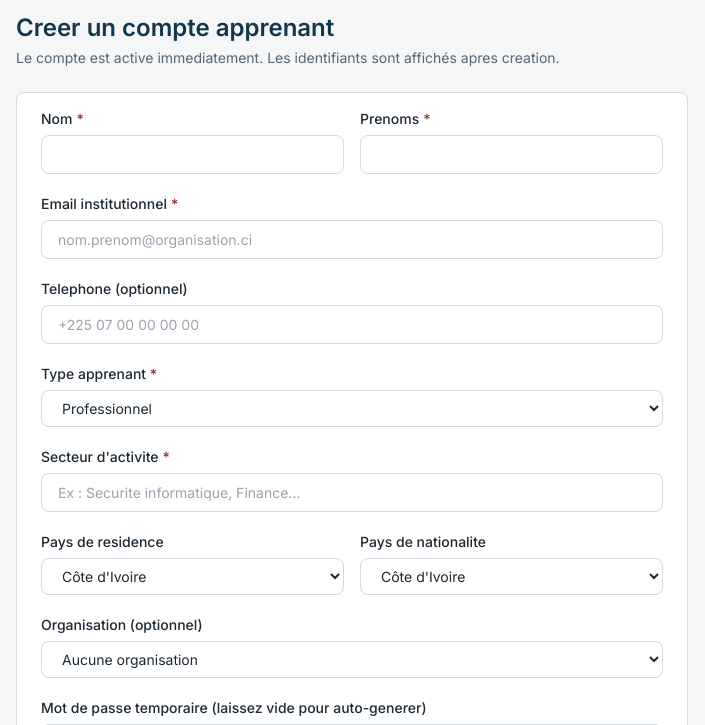
ApprenantCreate › affiche champ niveau etude pour APPRENANT
Select "Etudiant" in the dropdown with test id "select-type" at (352, 408), box [41,390,663,427]
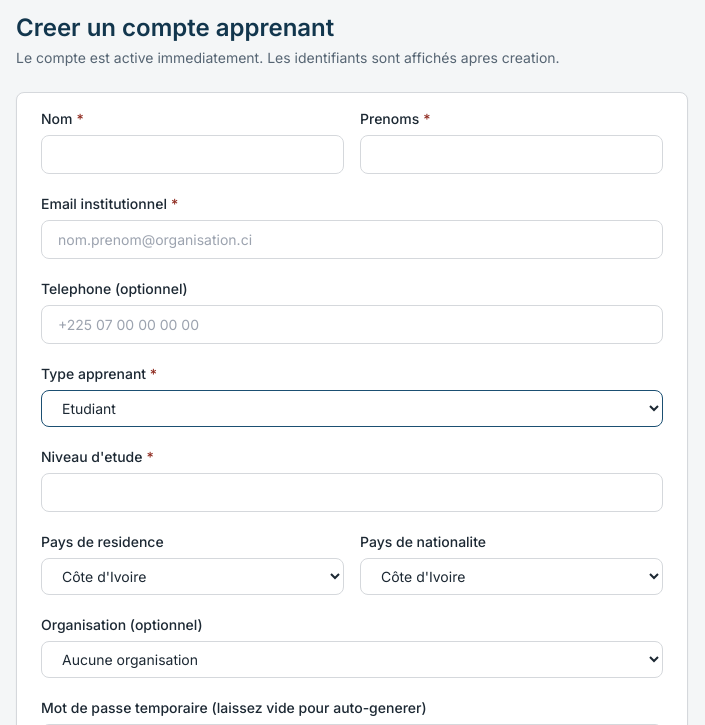
Expected: the field with test id "input-niveau" is shown, [41,473,663,512]
Expected: the field with test id "input-secteur" is gone
